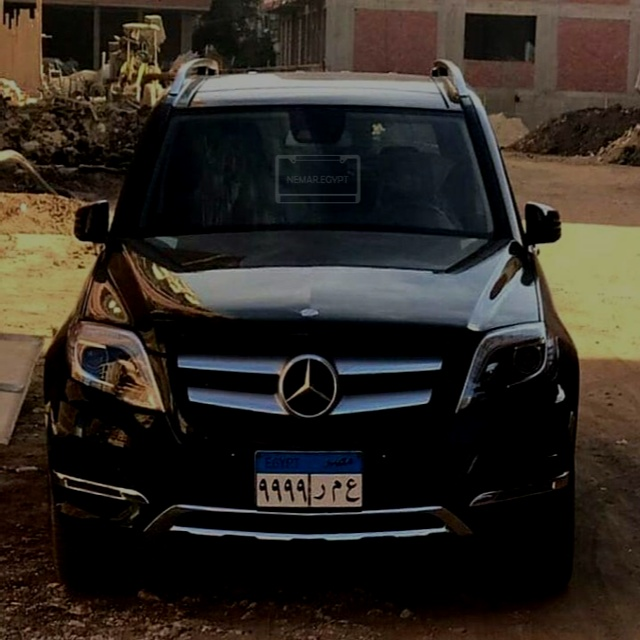License Plate: (250, 447, 366, 513)
